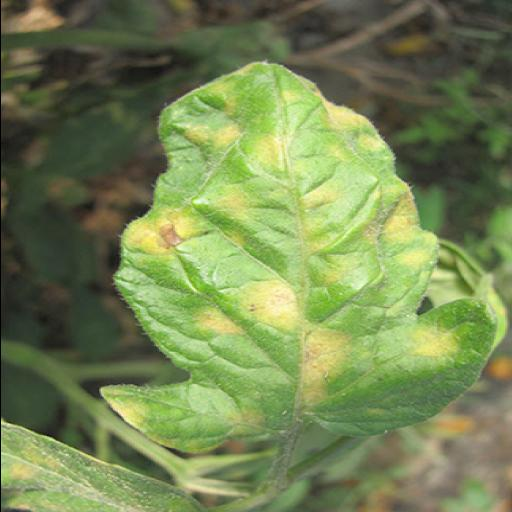Leaf Mold: (98, 61, 500, 463)
